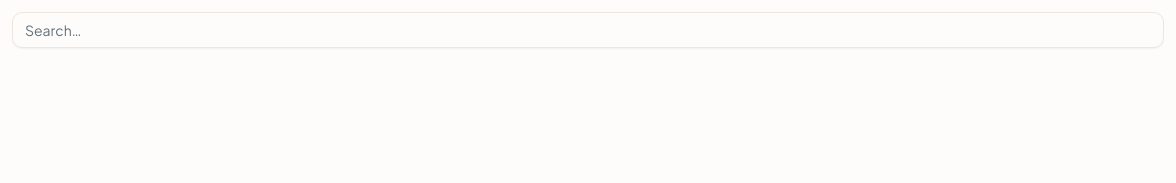
Test: SearchPicker › shows matching options on focus and filters as you type
Focus the field with placeholder "Search…" at {"x": 588, "y": 30}, box x1=12 y1=12 x2=1164 y2=48
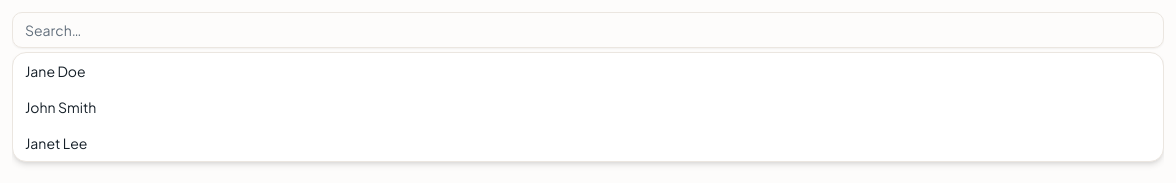
Now the number of options is 3, box x1=13 y1=53 x2=1163 y2=89; x1=13 y1=89 x2=1163 y2=125; x1=13 y1=125 x2=1163 y2=161
Type "jan" into the field with placeholder "Search…" at {"x": 588, "y": 30}, box x1=12 y1=12 x2=1164 y2=48
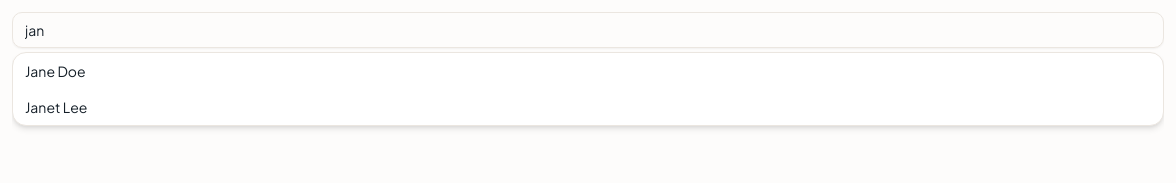
Now the options read "Jane Doe", "Janet Lee", in this order, box x1=13 y1=53 x2=1163 y2=89; x1=13 y1=89 x2=1163 y2=125
